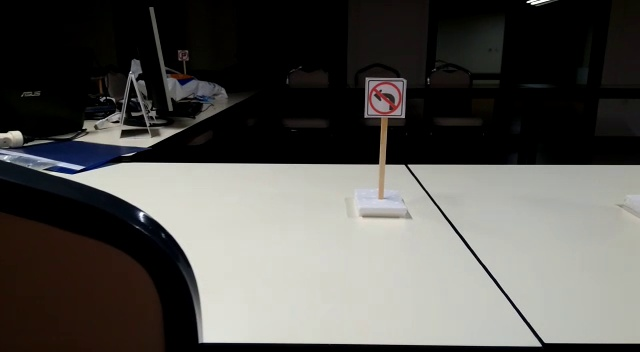sola_donulmez: (361, 78, 408, 119)
